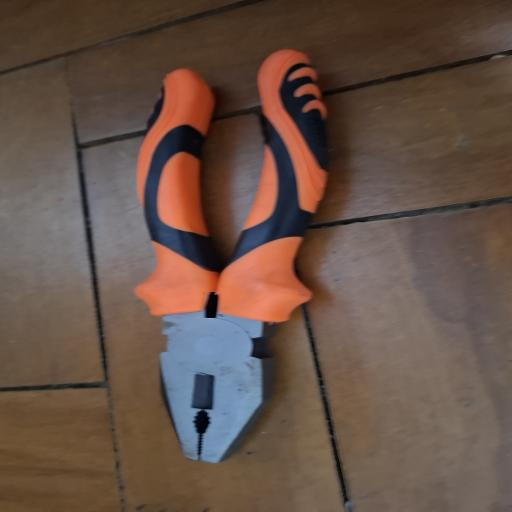alicate: (127, 44, 338, 464)
